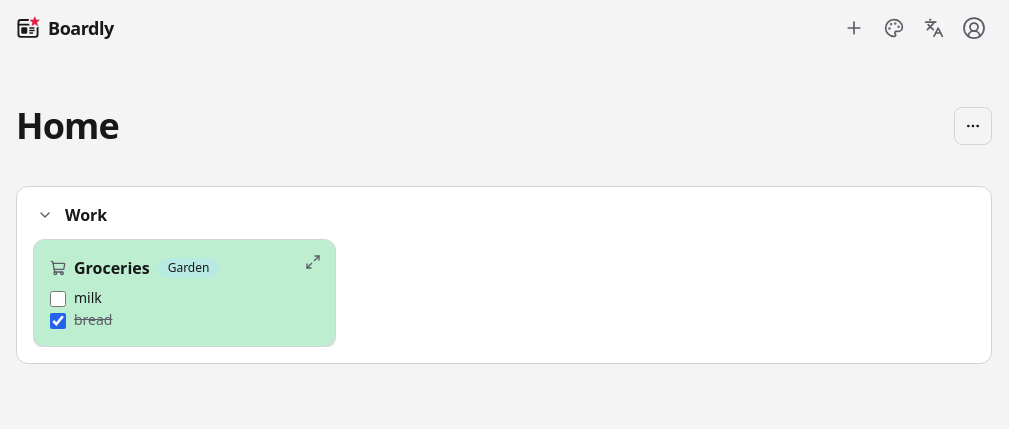
the note widget › shows the note as it was when saving fails
The image size is (1009, 429).
Expected: the button named "Open Groceries" is shown, 299,248 -> 327,276
Click the checkbox named "milk" at point(58, 299), box 50,291 -> 66,307
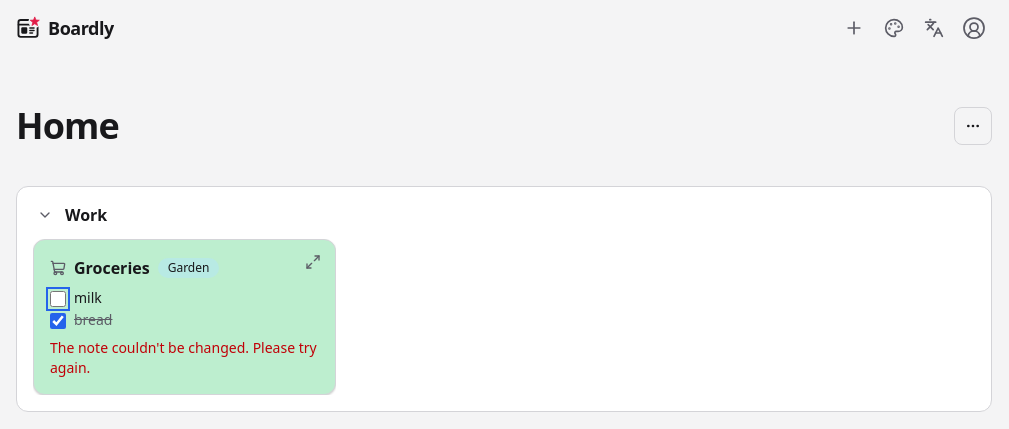
Now the message reads "The note couldn't be changed. Please try again.", box 50,338 -> 317,377
